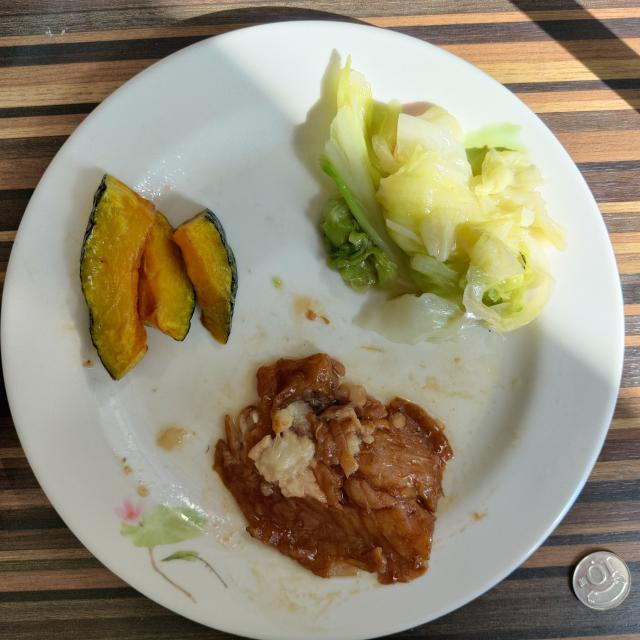Kabayaki sea bream fillet: (214, 354, 452, 584)
cabbage: (320, 61, 566, 344)
coin: (572, 551, 630, 610)
pumpkin: (80, 175, 238, 379)
